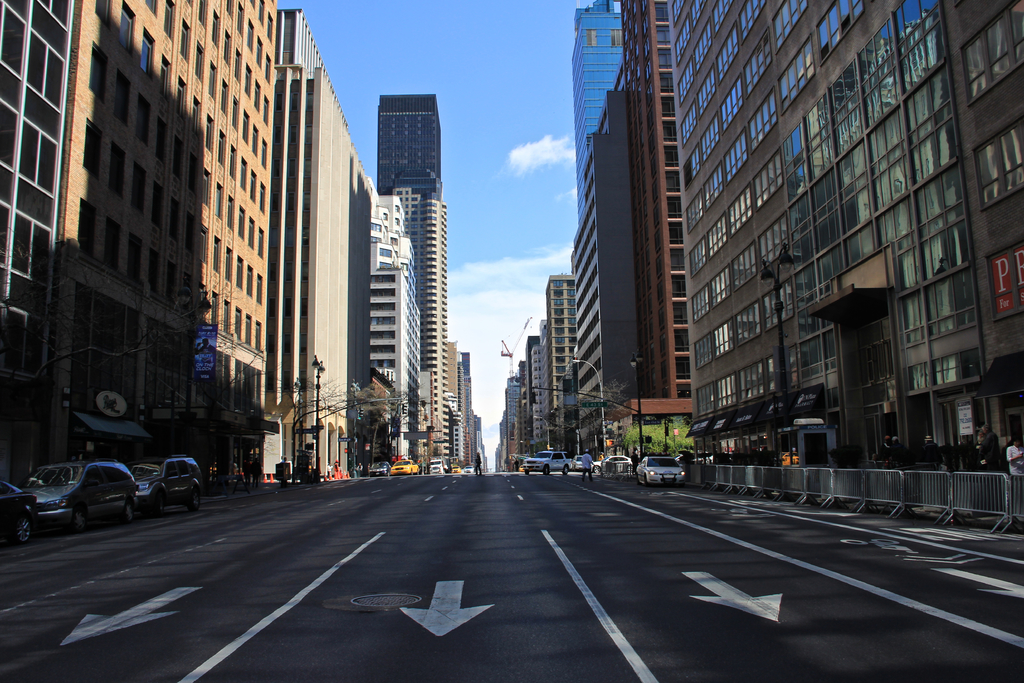Car: (633, 456, 686, 488)
